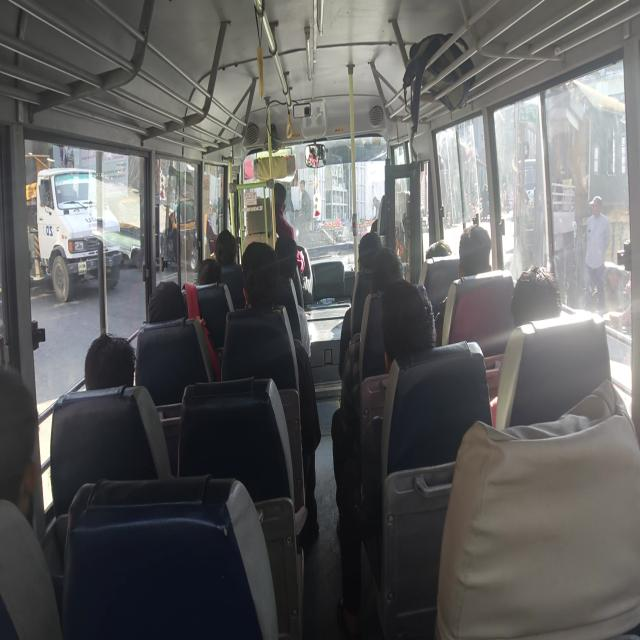person: (82, 321, 154, 404), (378, 273, 441, 361), (1, 361, 38, 505), (241, 238, 285, 316), (512, 259, 560, 330), (146, 276, 200, 330), (458, 221, 497, 285), (368, 243, 404, 302), (376, 175, 411, 218), (213, 223, 243, 273), (275, 227, 303, 279), (420, 237, 458, 274), (356, 227, 380, 273), (198, 248, 222, 292), (271, 177, 293, 223)
